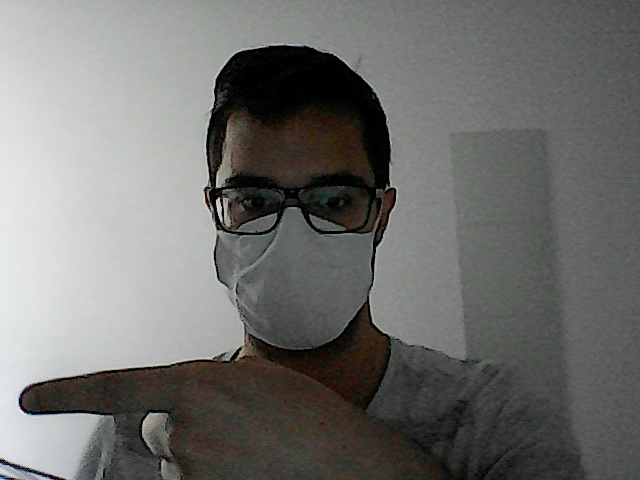right: (12, 353, 384, 480)
